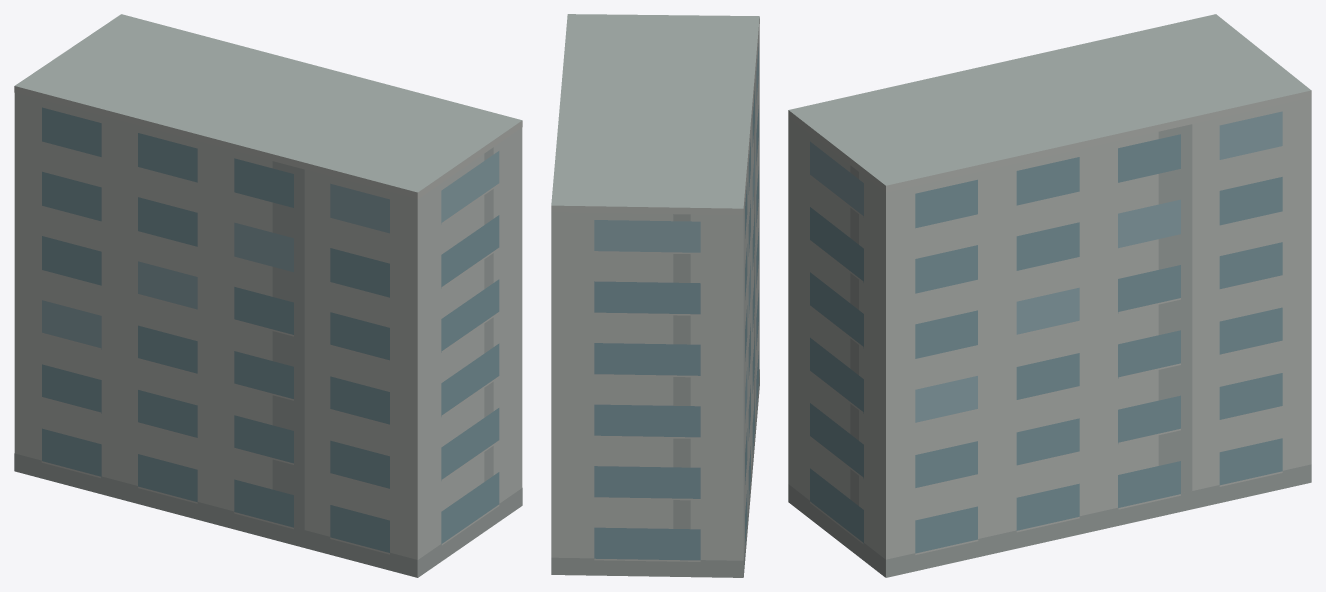
The model's file is survey-upis-33002955.glb.
3 views of the same model, side by side, from view 1: azimuth 30°, elevation 25°; view 2: azimuth 150°, elevation 25°; view 3: azimuth 270°, elevation 25° (orthographic). The views are drawn at different scales.
Visible parts, largest first — view 1: survey-upis-33002955.tmp; view 2: survey-upis-33002955.tmp; view 3: survey-upis-33002955.tmp.
Part boxes in pixels (x1,y1,x2,y2): survey-upis-33002955.tmp: (14, 14, 522, 577); survey-upis-33002955.tmp: (551, 14, 759, 577); survey-upis-33002955.tmp: (788, 14, 1311, 577).
Size of the model in its own units: 12.78 by 13.6 by 16.45.
